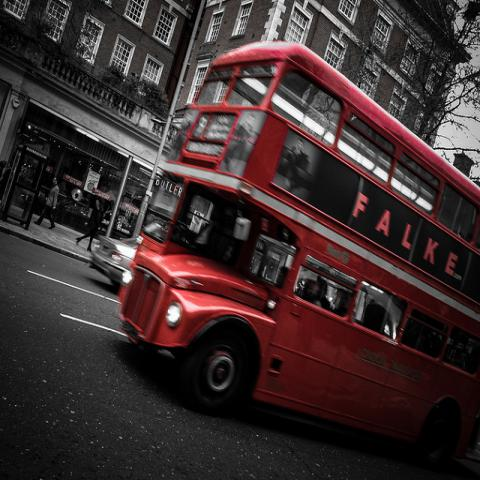bus: (113, 43, 479, 466)
car: (89, 235, 138, 282)
